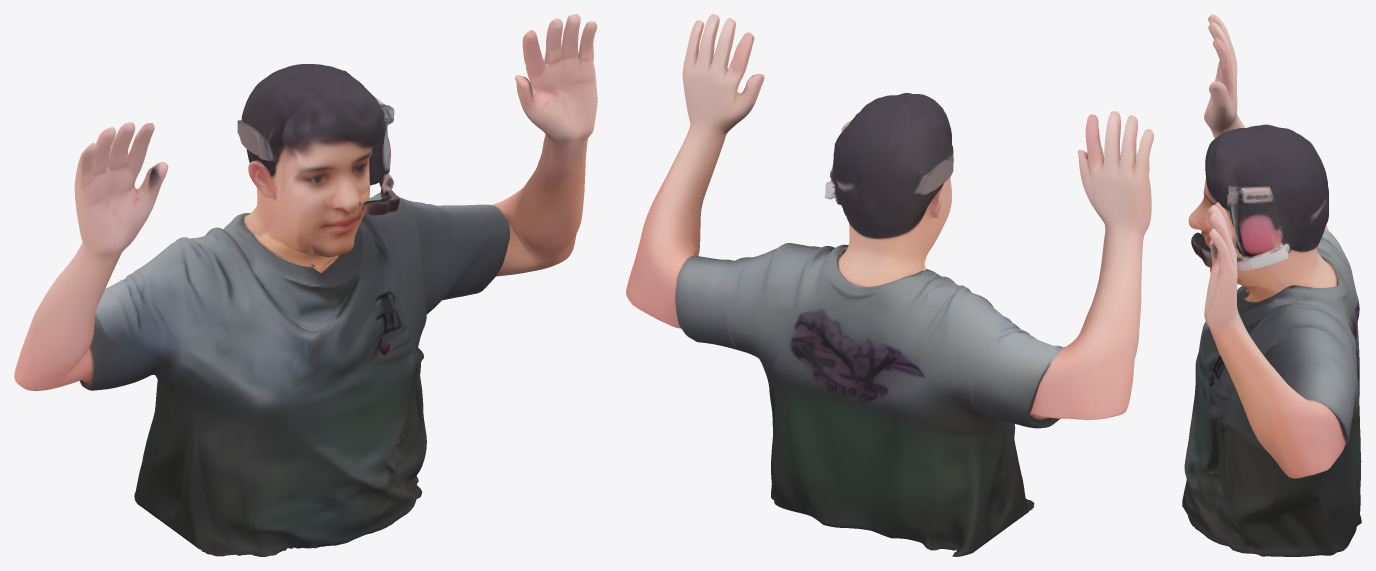
Rendered from base_basic_shaded.fbx.
3 renders of one model, left to right at view 1: azimuth 30°, elevation 25°; view 2: azimuth 150°, elevation 25°; view 3: azimuth 270°, elevation 25°, orthographic. The views are drawn at different scales.
Visible parts, largest first — view 1: model; view 2: model; view 3: model.
Boxes of the visible parts, x1,y1,x2,y2 form: model: [14, 14, 597, 556]; model: [626, 14, 1153, 556]; model: [1182, 14, 1361, 556].
Bounding box in the file's own units: 185 × 147 × 59.9.
